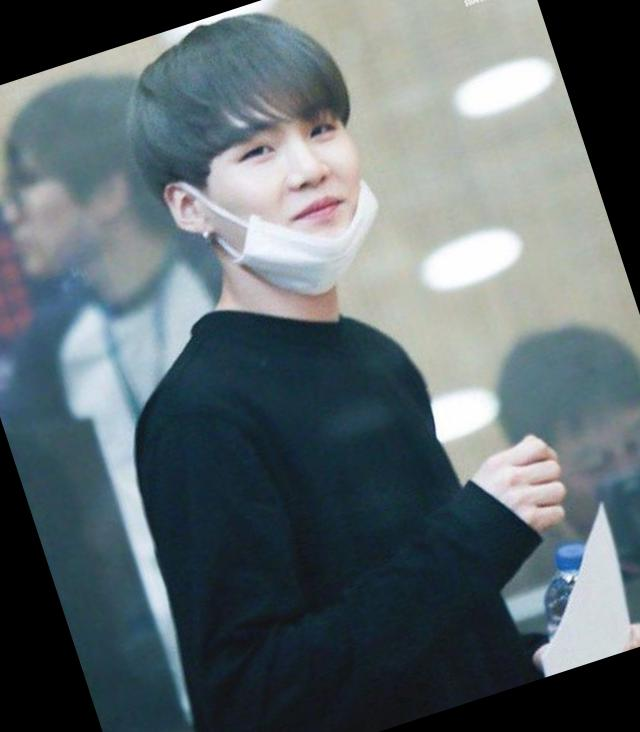mask_weared_incorrect: (208, 112, 400, 310)
without_mask: (3, 160, 76, 286)
